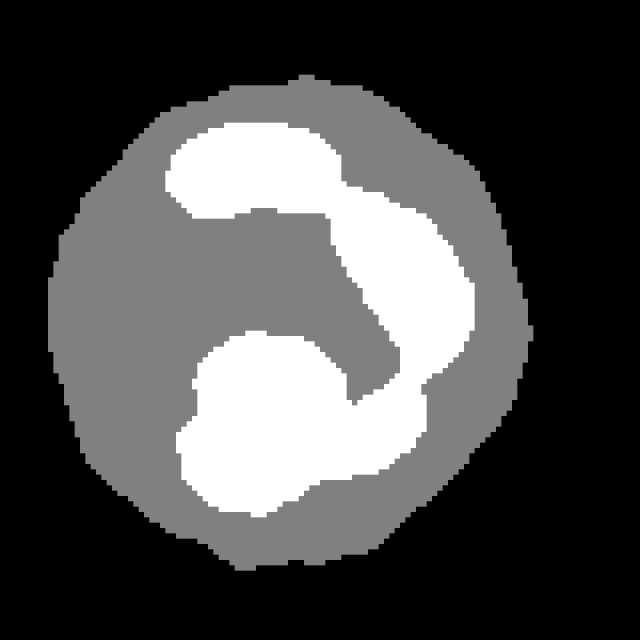WBC: (37, 64, 560, 581)
